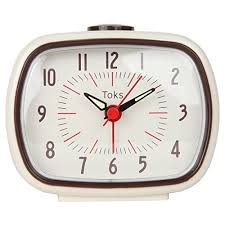alarm_clock: (12, 25, 216, 200)
